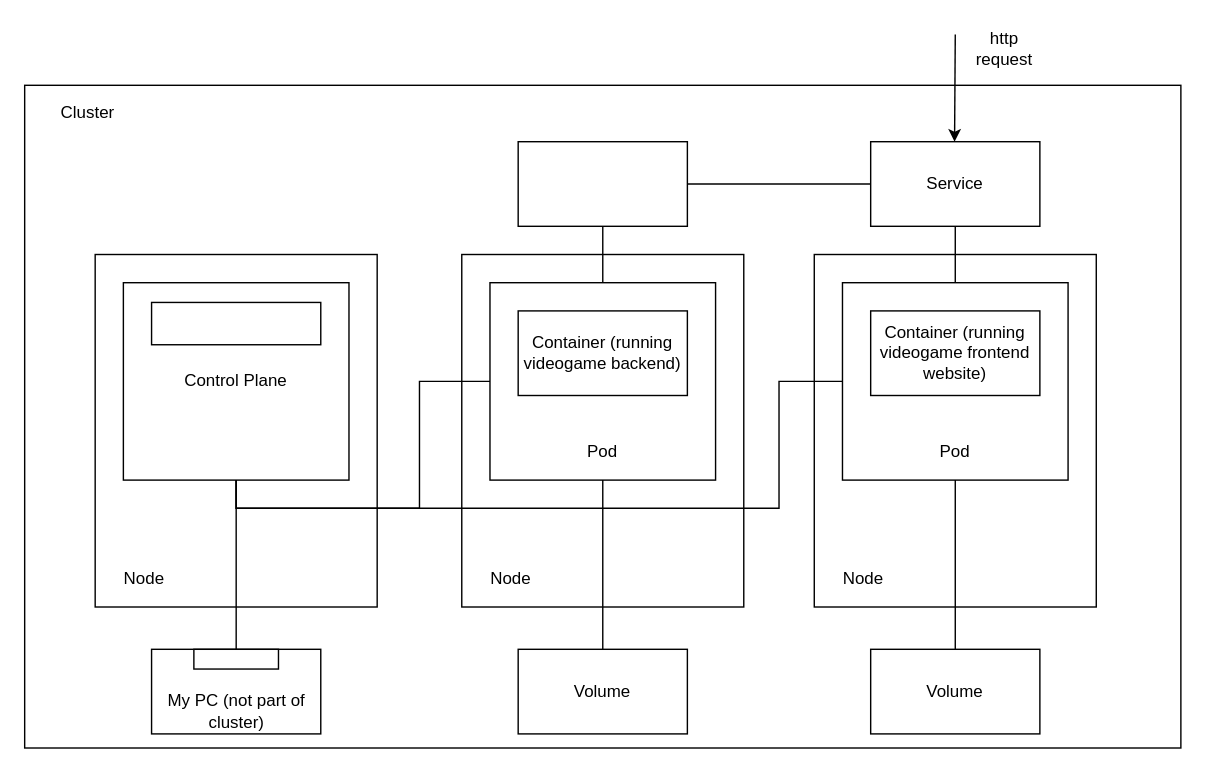
The diagram is 1206 pixels wide and 773 high, and some of its shapes have lost their labels. The centre of each missing label's shape, as x and y in pixels:
"kubectl" belongs at (235,658).
"other control plane components" belongs at (235,323).
"Service (internal)" belongs at (602,183).
